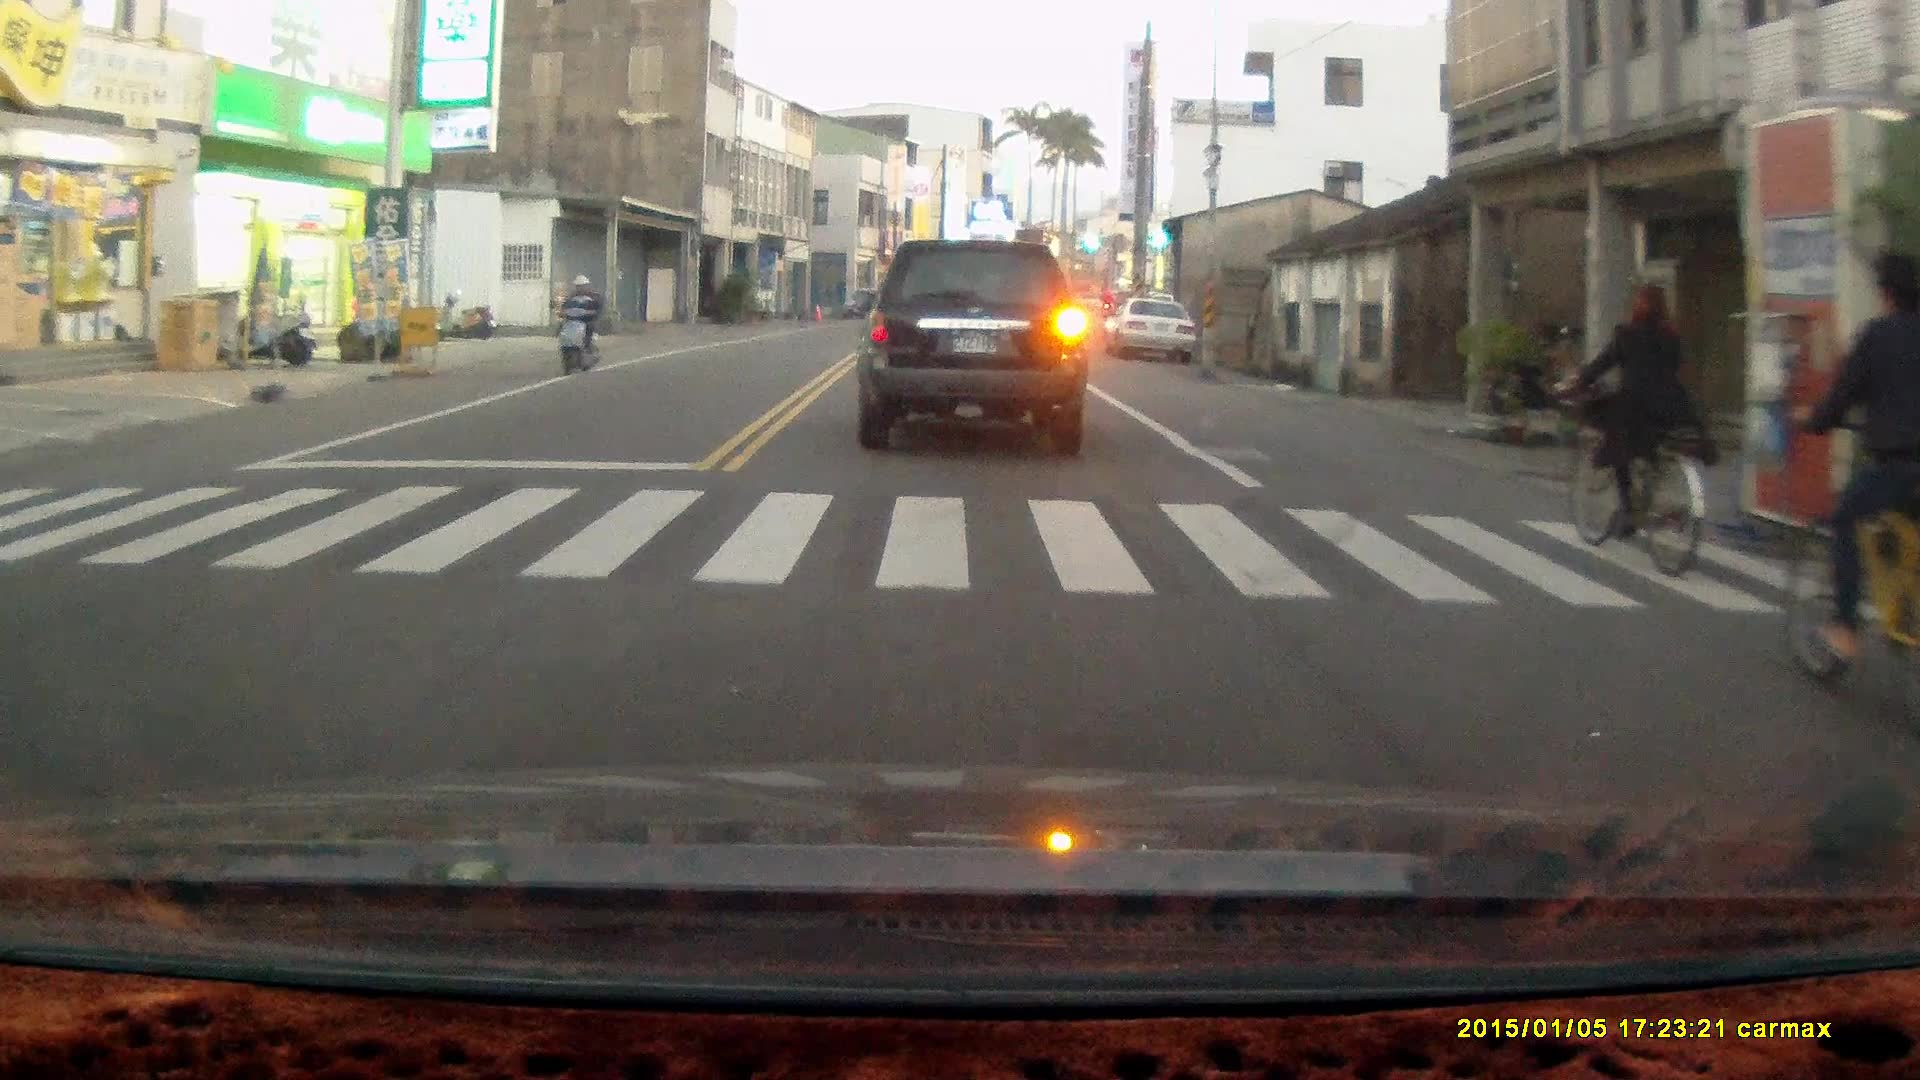rider: (1783, 249, 1920, 713), (1556, 278, 1704, 580), (549, 271, 605, 378)
vehicle: (861, 241, 1093, 465), (1109, 302, 1198, 367)
